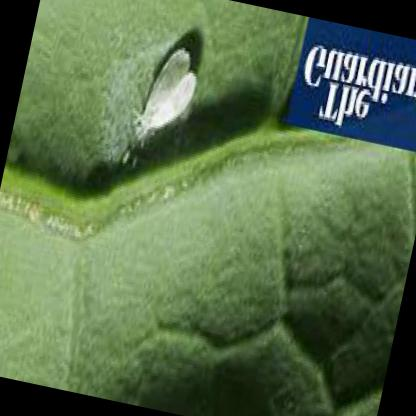whitefly: (133, 50, 196, 144)
